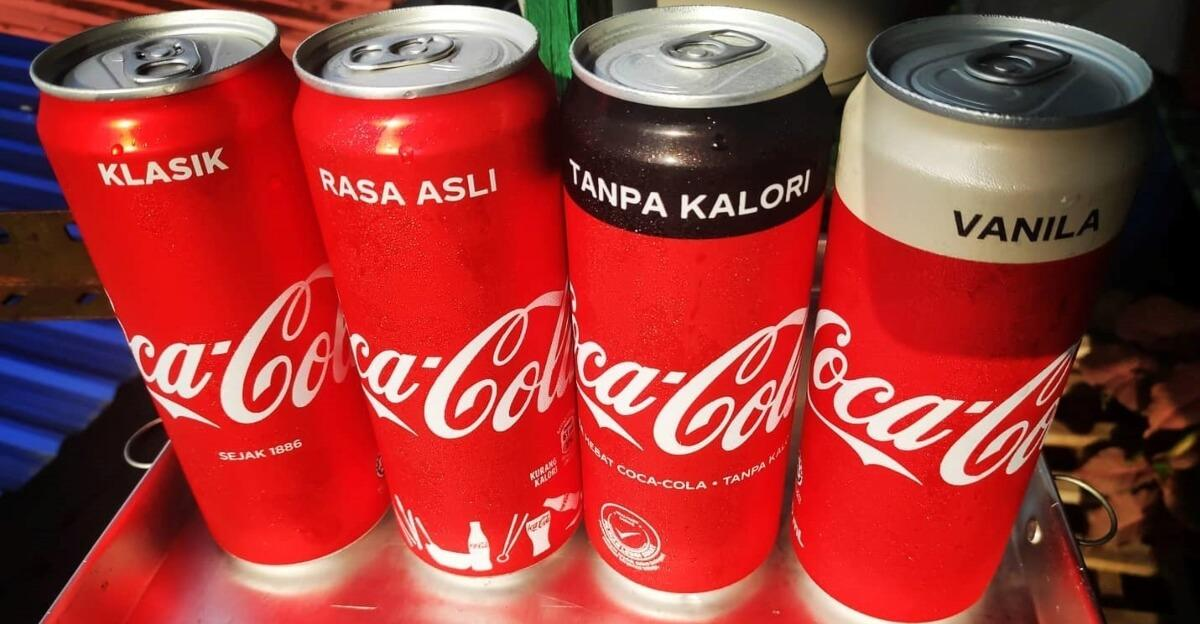metal: (802, 8, 1154, 624), (32, 3, 386, 592), (292, 8, 584, 587), (551, 4, 818, 612)
